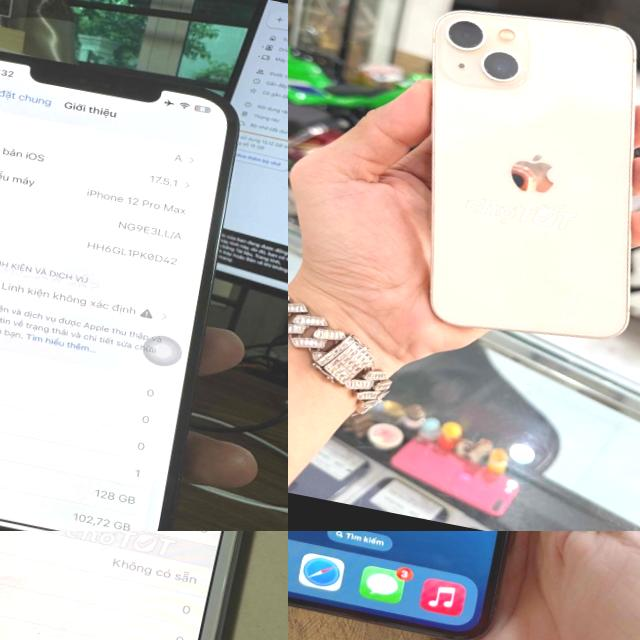gen_12_13: (0, 29, 288, 531), (377, 0, 640, 359)
gen_6: (0, 531, 288, 640)
gen_x_xs: (288, 531, 580, 640)
